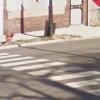Crosswalk: (4, 49, 95, 90)
